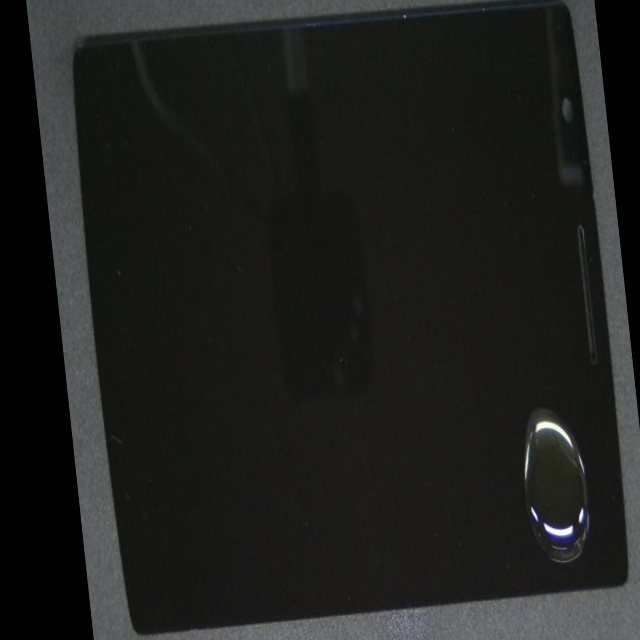oil: (315, 163, 640, 640)
